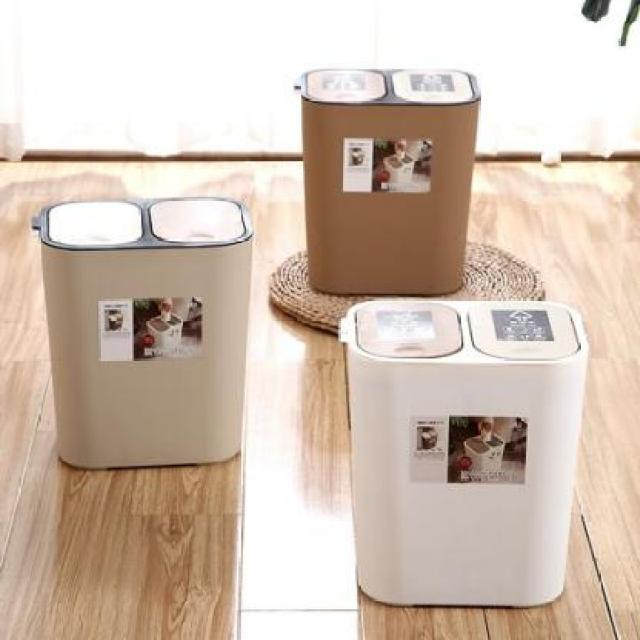dustbin: (334, 294, 591, 612), (26, 191, 256, 473), (290, 63, 486, 298)
